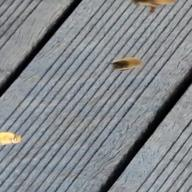Bee: (105, 52, 147, 72), (131, 0, 171, 17)
